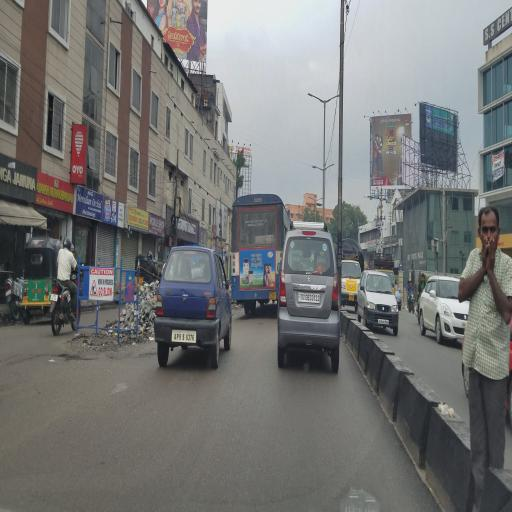street_light_0: (322, 85, 342, 115), (305, 80, 328, 104), (320, 159, 338, 180), (307, 158, 324, 180)
